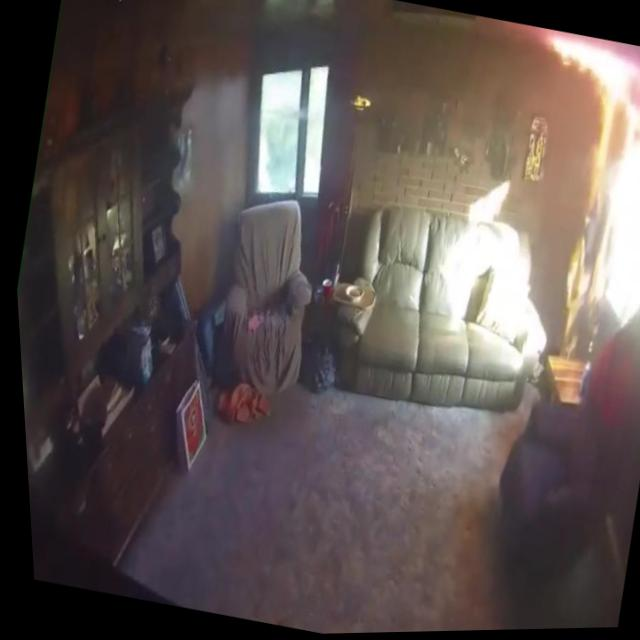fire: (537, 111, 640, 358), (531, 33, 640, 127)
